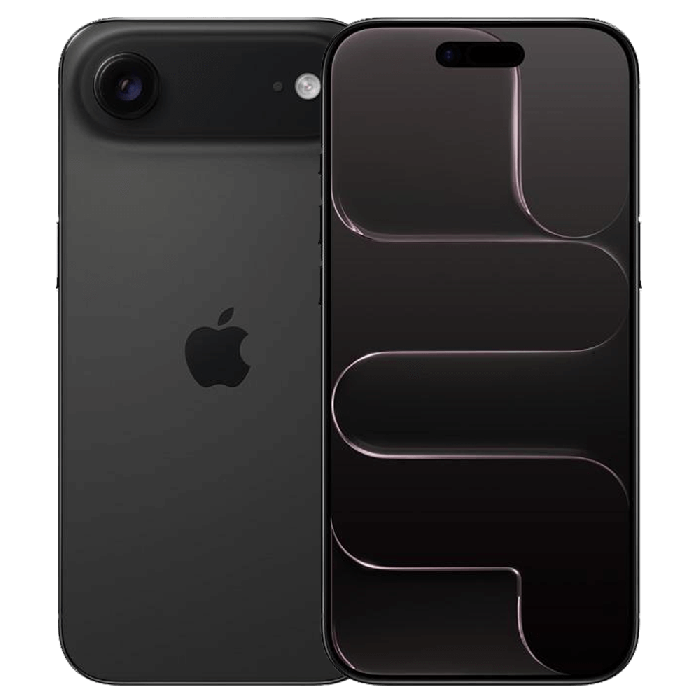IPHONE: (53, 7, 643, 694), (321, 13, 641, 696), (55, 4, 322, 694)
